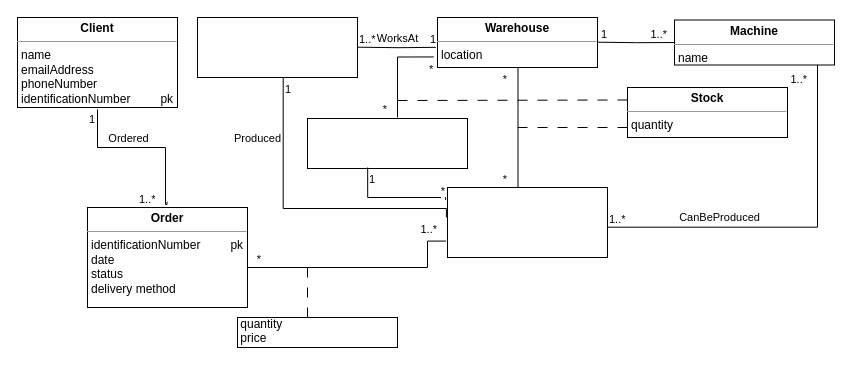
This 852x365 diagram has some shape labels left out. The shapes that lost their labels are listed below. From the top down, each one's centre as x and y in pixels, then its label:
point 277,47: Employee name identificationNumber pk
point 387,143: Paper reference pk
point 527,222: Bag identificationNumber pk dimensions
